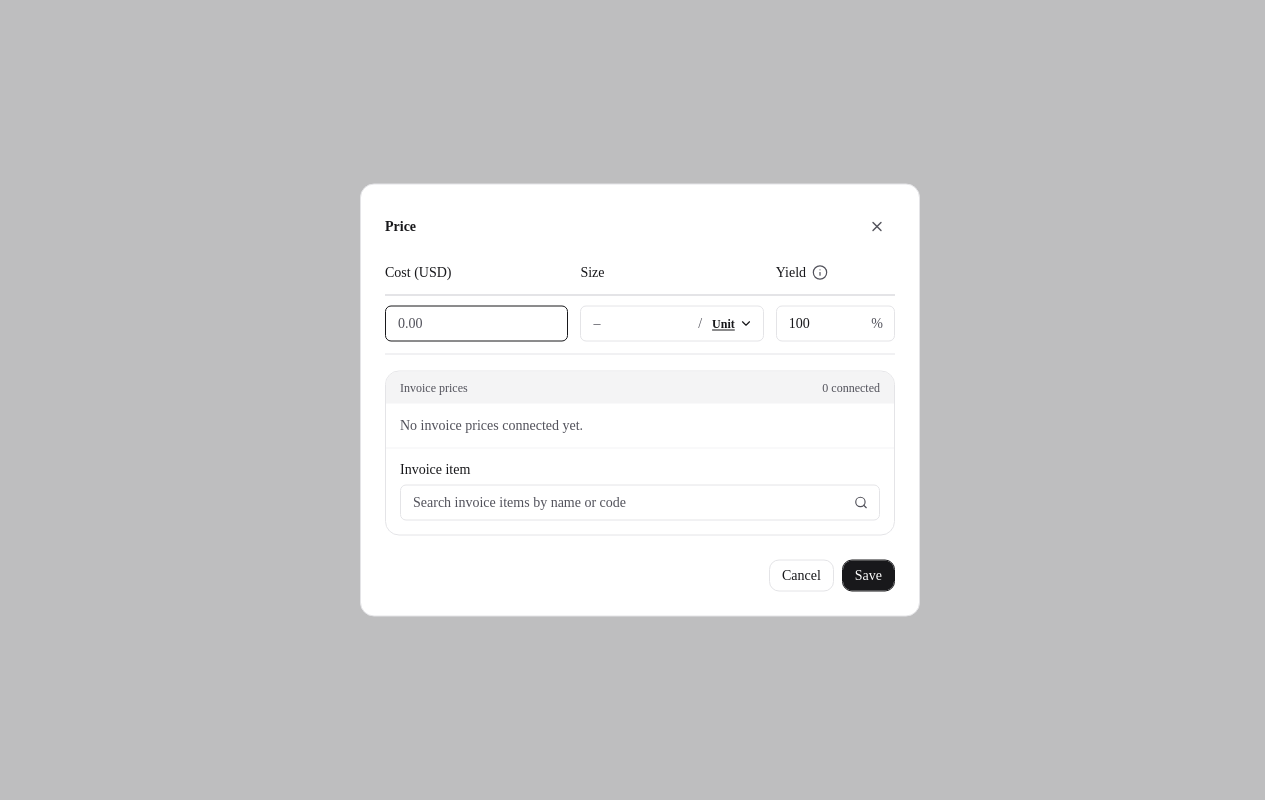
Test: the connected invoice item › shows a picked line as a separate invoice-price draft
Type "carrots" into the dropdown labelled "Invoice item" at (640, 502), box [400, 484, 880, 520]
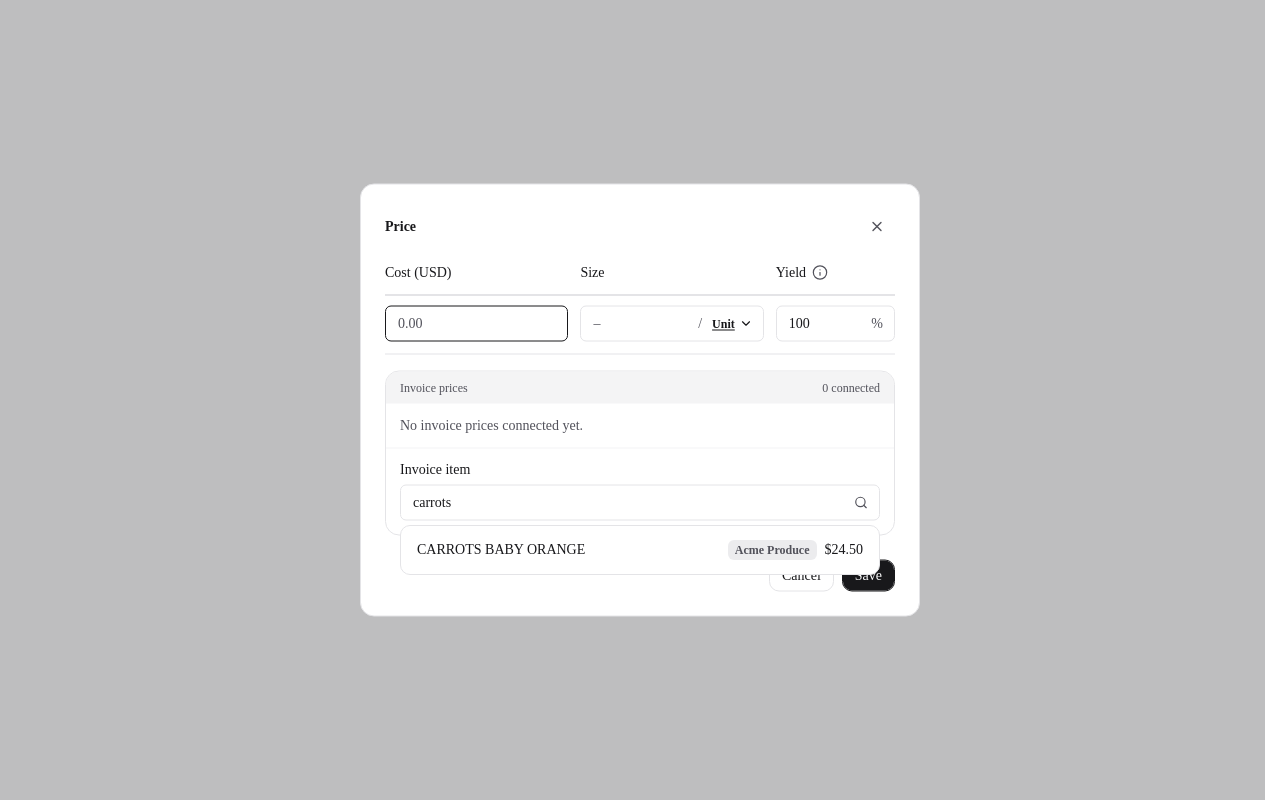
Click the option "CARROTS BABY ORANGE Acme Produce $24.50" at (501, 550), box [407, 532, 873, 568]
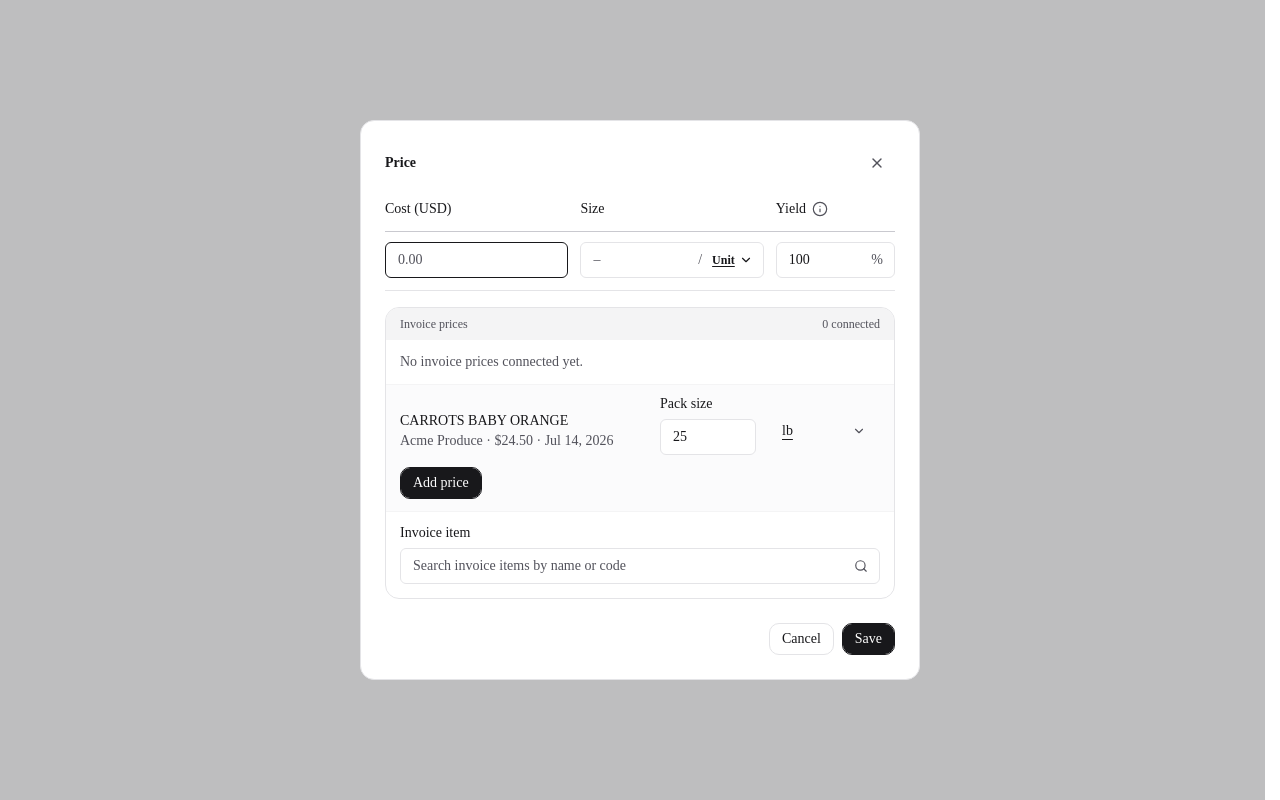
Expected: the text "CARROTS BABY ORANGE" is shown, [400, 413, 568, 428]
Expected: the field labelled "Pack size" holds "25", [660, 419, 756, 455]
Expected: the button with aria-label "Pack unit" reads "lb", [768, 407, 880, 455]
